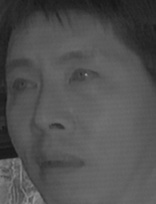eye: (66, 65, 101, 87), (9, 76, 39, 94)
mouth: (31, 145, 87, 178)
